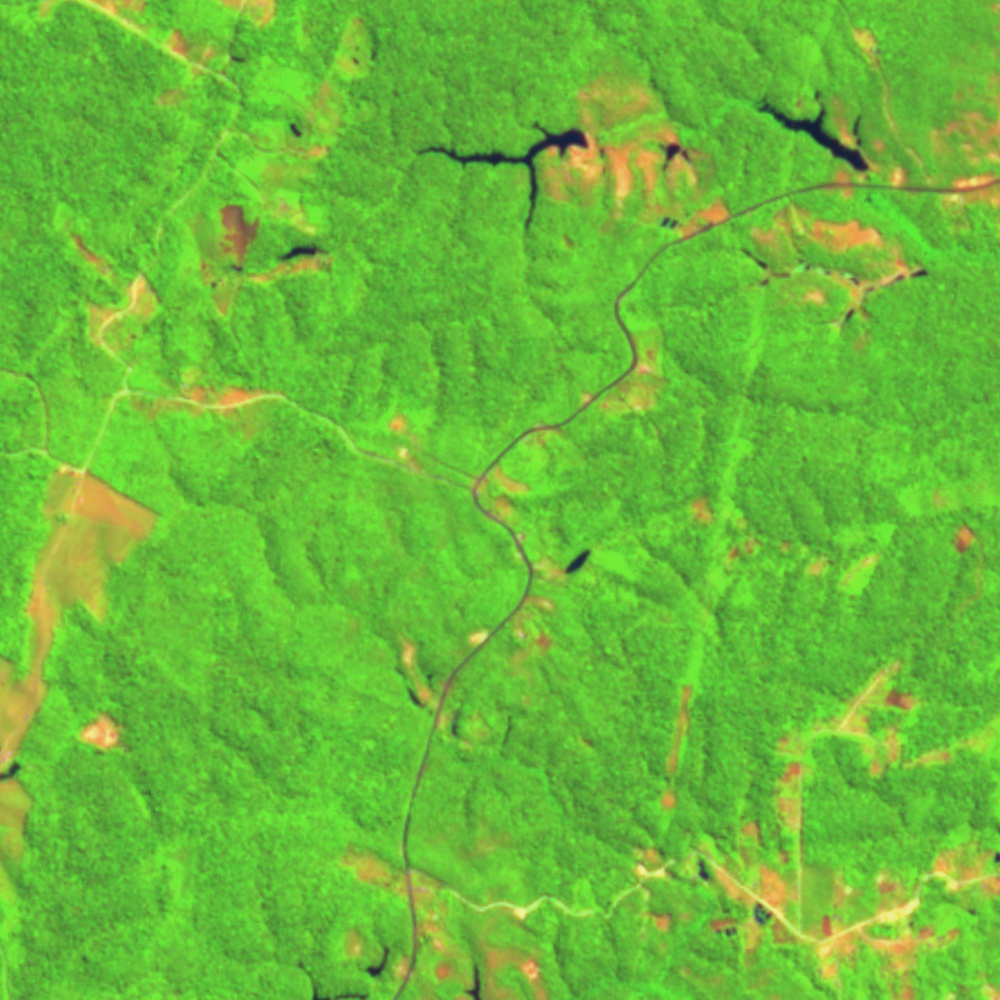legal: (696, 846, 1000, 1000), (406, 121, 729, 247), (1, 465, 162, 668), (228, 13, 377, 201), (773, 654, 923, 829), (730, 204, 930, 331), (687, 496, 887, 588), (189, 204, 338, 317), (753, 84, 890, 181), (79, 243, 165, 361), (930, 81, 1000, 224), (422, 929, 543, 1000), (137, 377, 287, 432), (1, 656, 44, 846), (341, 838, 444, 914), (658, 678, 701, 811), (606, 339, 674, 411), (928, 483, 985, 555), (396, 630, 440, 712), (506, 592, 557, 661), (635, 845, 675, 932), (475, 460, 527, 526), (336, 926, 397, 981), (437, 698, 495, 748), (379, 408, 420, 476), (535, 544, 598, 588), (741, 817, 798, 865), (75, 707, 123, 755)
